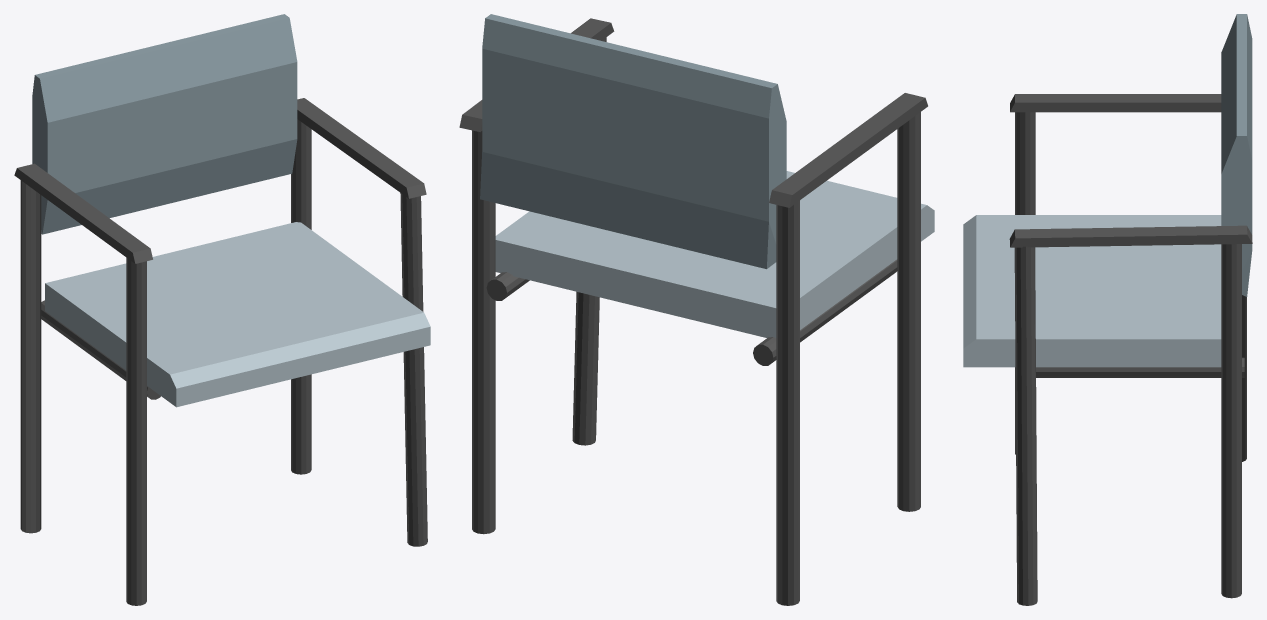
The model's file is reg-chair.glb.
The picture shows the model from 3 angles, left to right: view 1: azimuth 30°, elevation 25°; view 2: azimuth 150°, elevation 25°; view 3: azimuth 270°, elevation 25°; orthographic projection. The views are drawn at different scales.
Visible parts, largest first — view 1: Node; view 2: Node; view 3: Node.
Boxes of the visible parts, bbox=[...] form: Node: bbox=[14, 14, 430, 605]; Node: bbox=[459, 14, 934, 605]; Node: bbox=[963, 14, 1252, 605].
Bounding box in the file's own units: 0.6723 × 0.9725 × 0.5606.
